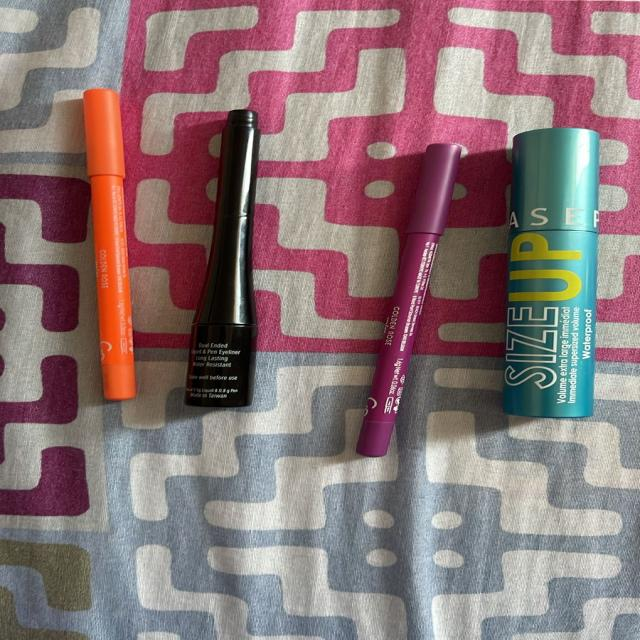kajal: (172, 95, 296, 419)
lip liner: (330, 138, 492, 468), (44, 77, 157, 411)
lip stick: (491, 118, 627, 450)
